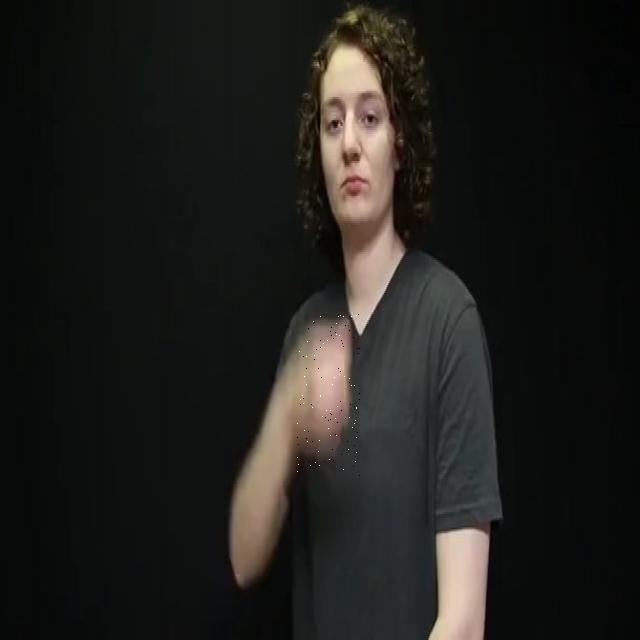drink: (296, 314, 361, 476)
